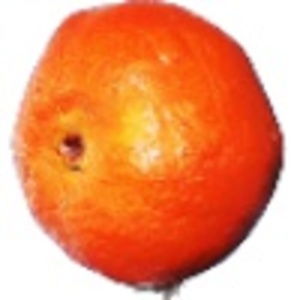tangerina: (10, 1, 288, 300)
